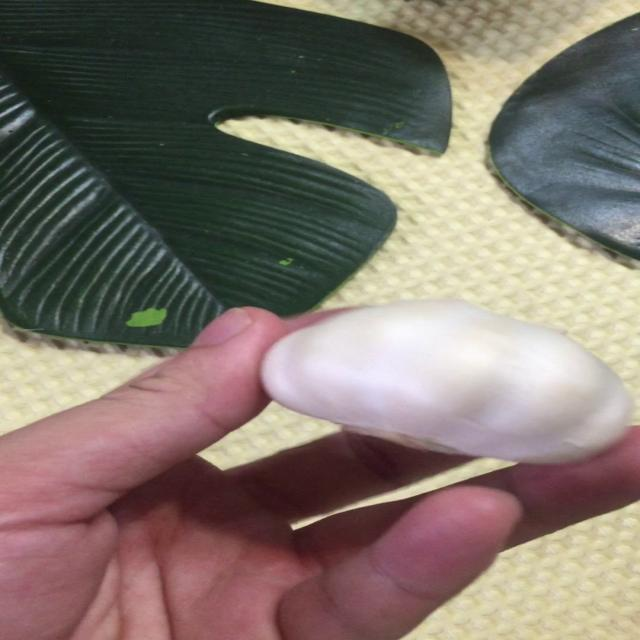garlic: (252, 297, 638, 466)
